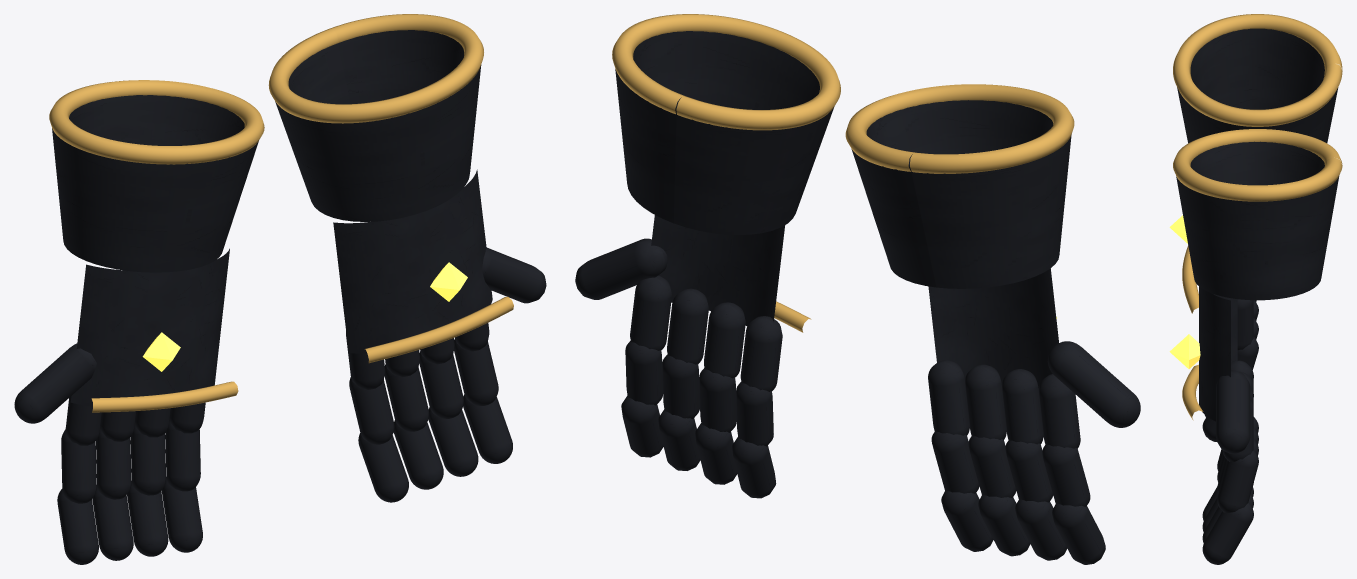
Rendered from gloves.glb.
3 views of the same model, side by side, from view 1: azimuth 30°, elevation 25°; view 2: azimuth 150°, elevation 25°; view 3: azimuth 270°, elevation 25° (orthographic). The views are drawn at different scales.
Parts seen in each view (by area): view 1: gauntlets, goldTrim, gems; view 2: gauntlets, goldTrim; view 3: gauntlets, goldTrim, gems.
Part boxes in pixels (x1,y1,x2,y2): gauntlets: (14,30,546,564); goldTrim: (49,14,513,412); gems: (142,262,467,371); gauntlets: (575,31,1140,564); goldTrim: (612,14,1074,332); gauntlets: (1176,28,1339,564); goldTrim: (1173,14,1342,420); gems: (1169,215,1200,368).
Size of the model in its own units: 1.1 by 0.8664 by 0.353.
3 materials, 1 textured.
